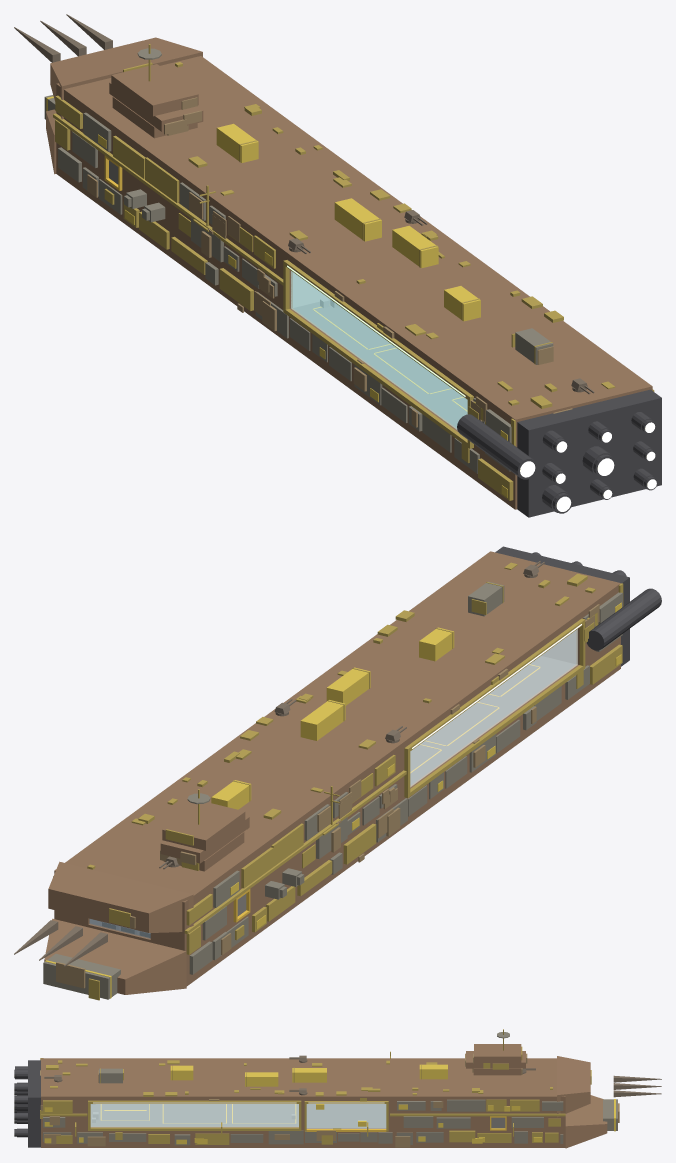
Rendered from ship_MEDIUM_v3.glb.
3 views of the same model, one above another, from view 1: azimuth 30°, elevation 25°; view 2: azimuth 150°, elevation 25°; view 3: azimuth 270°, elevation 25° (orthographic). The views are drawn at different scales.
Parts seen in each view (by area): view 1: MEDIUM_Hull-col, MEDIUM_Engines, MEDIUM_Trim, MEDIUM_Armor, MEDIUM_HangarShield_Port, MEDIUM_Accent, MEDIUM_Decks-col, MEDIUM_ScrapPlates, MEDIUM_Details, MEDIUM_RamSpikes, MEDIUM_EngineGlow, MEDIUM_ScrapTrim; view 2: MEDIUM_Hull-col, MEDIUM_Trim, MEDIUM_Armor, MEDIUM_HangarShield_Port, MEDIUM_Decks-col, MEDIUM_Accent, MEDIUM_ScrapPlates, MEDIUM_Engines, MEDIUM_Details, MEDIUM_ScrapTrim, MEDIUM_RamSpikes; view 3: MEDIUM_Hull-col, MEDIUM_Armor, MEDIUM_Trim, MEDIUM_HangarShield_Starboard, MEDIUM_Decks-col, MEDIUM_Accent, MEDIUM_Engines, MEDIUM_CargoBayShield, MEDIUM_CargoBayDoor-col, MEDIUM_ScrapPlates, MEDIUM_Details, MEDIUM_Hazard (+3 smaller).
Boxes of the visible parts, <box> form: MEDIUM_Hull-col: <box>46,37,652,509</box>; MEDIUM_Engines: <box>457,389,661,517</box>; MEDIUM_Trim: <box>53,44,654,500</box>; MEDIUM_Armor: <box>44,48,553,473</box>; MEDIUM_HangarShield_Port: <box>291,271,467,429</box>; MEDIUM_Accent: <box>46,96,507,497</box>; MEDIUM_Decks-col: <box>293,299,467,427</box>; MEDIUM_ScrapPlates: <box>87,97,572,427</box>; MEDIUM_Details: <box>175,62,615,408</box>; MEDIUM_RamSpikes: <box>14,14,112,62</box>; MEDIUM_EngineGlow: <box>520,422,656,511</box>; MEDIUM_ScrapTrim: <box>104,62,515,463</box>; MEDIUM_Hull-col: <box>44,551,620,994</box>; MEDIUM_Trim: <box>184,582,622,954</box>; MEDIUM_Armor: <box>43,581,622,999</box>; MEDIUM_HangarShield_Port: <box>410,629,577,786</box>; MEDIUM_Decks-col: <box>90,656,575,934</box>; MEDIUM_Accent: <box>45,602,621,998</box>; MEDIUM_ScrapPlates: <box>56,604,599,988</box>; MEDIUM_Engines: <box>495,546,661,666</box>; MEDIUM_Details: <box>87,562,595,869</box>; MEDIUM_ScrapTrim: <box>88,583,623,1000</box>; MEDIUM_RamSpikes: <box>14,920,107,966</box>; MEDIUM_Hull-col: <box>41,1044,607,1148</box>; MEDIUM_Armor: <box>43,1032,617,1145</box>; MEDIUM_Trim: <box>41,1029,565,1144</box>; MEDIUM_HangarShield_Starboard: <box>90,1104,298,1127</box>; MEDIUM_Decks-col: <box>90,1104,298,1126</box>; MEDIUM_Accent: <box>44,1064,615,1144</box>; MEDIUM_Engines: <box>14,1060,40,1147</box>; MEDIUM_CargoBayShield: <box>306,1104,386,1128</box>; MEDIUM_CargoBayDoor-col: <box>306,1104,386,1128</box>; MEDIUM_ScrapPlates: <box>40,1053,619,1147</box>; MEDIUM_Details: <box>46,1060,552,1096</box>; MEDIUM_Hazard: <box>100,1104,506,1131</box>.
Bounding box in the file's own units: 26.6 × 24.8 × 149.
